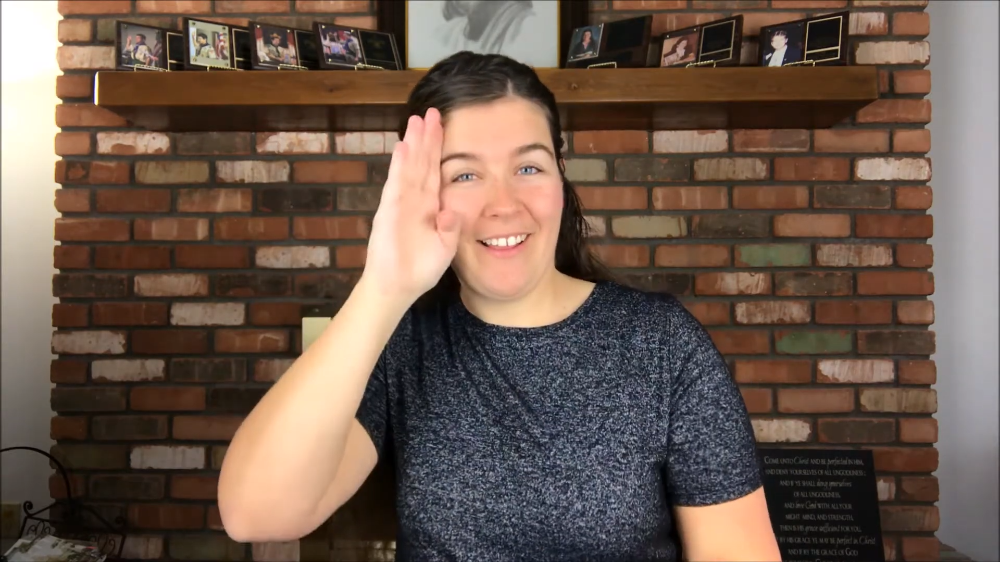hello: (367, 106, 459, 302)
